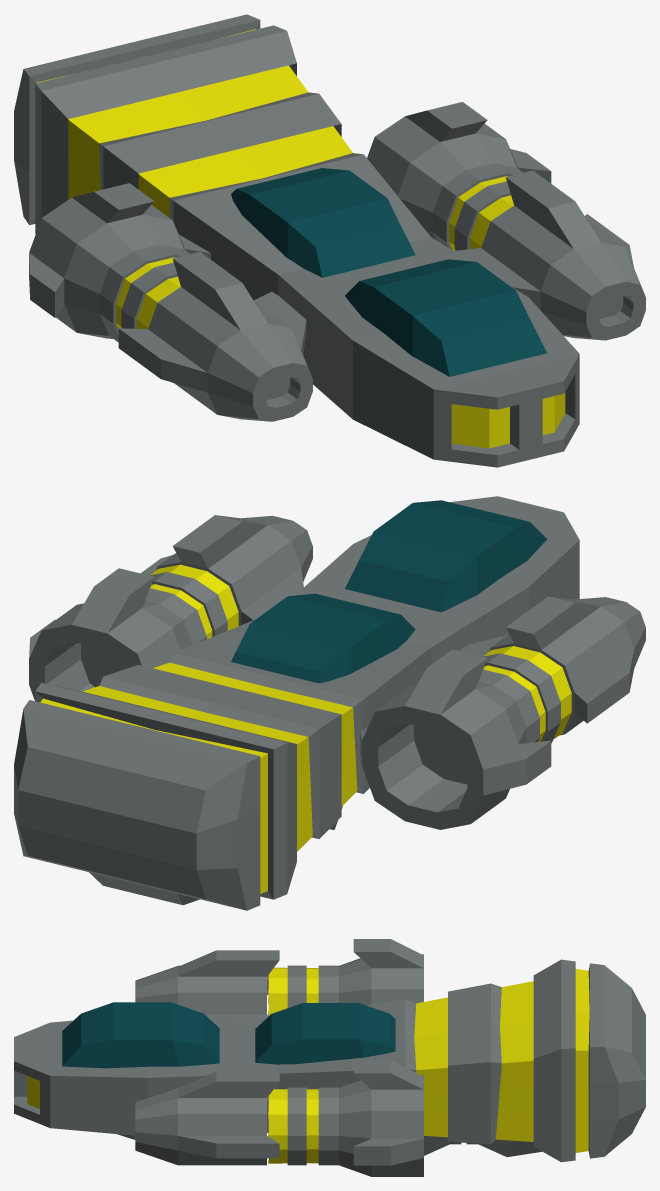
Rendered from spaceship_6.fbx.
The picture shows the model from 3 angles, top to bottom: view 1: azimuth 30°, elevation 25°; view 2: azimuth 150°, elevation 25°; view 3: azimuth 270°, elevation 25°; orthographic projection. The views are drawn at different scales.
Visible parts, largest first — view 1: spaceship.005; view 2: spaceship.005; view 3: spaceship.005.
Part boxes in pixels (x1,y1,x2,y2): spaceship.005: (14, 14, 645, 467); spaceship.005: (14, 496, 645, 910); spaceship.005: (14, 939, 645, 1176).
Bounding box in the file's own units: 699 × 225 × 1034.
